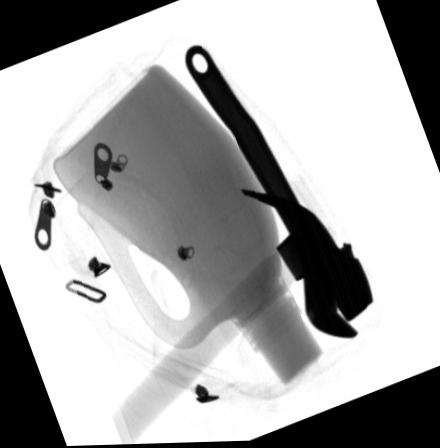Hammer: (111, 189, 366, 445)
Wrench: (182, 47, 370, 342)
